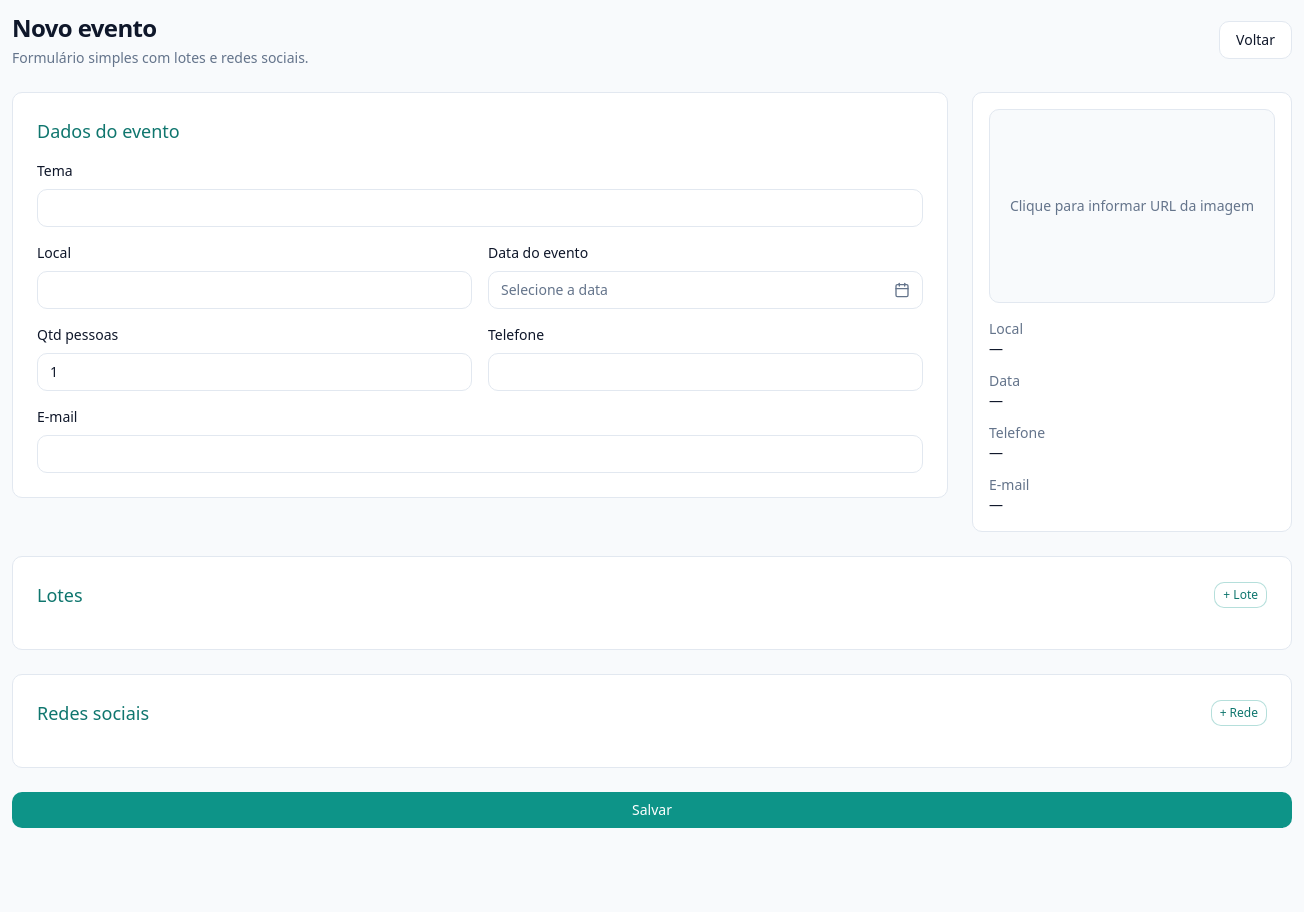
EventoDetailPage › espelha digitação no preview no create (two-way binding)
In the field labelled "Local": (254, 290) x1=37 y1=271 x2=472 y2=309, type "Arena Live"
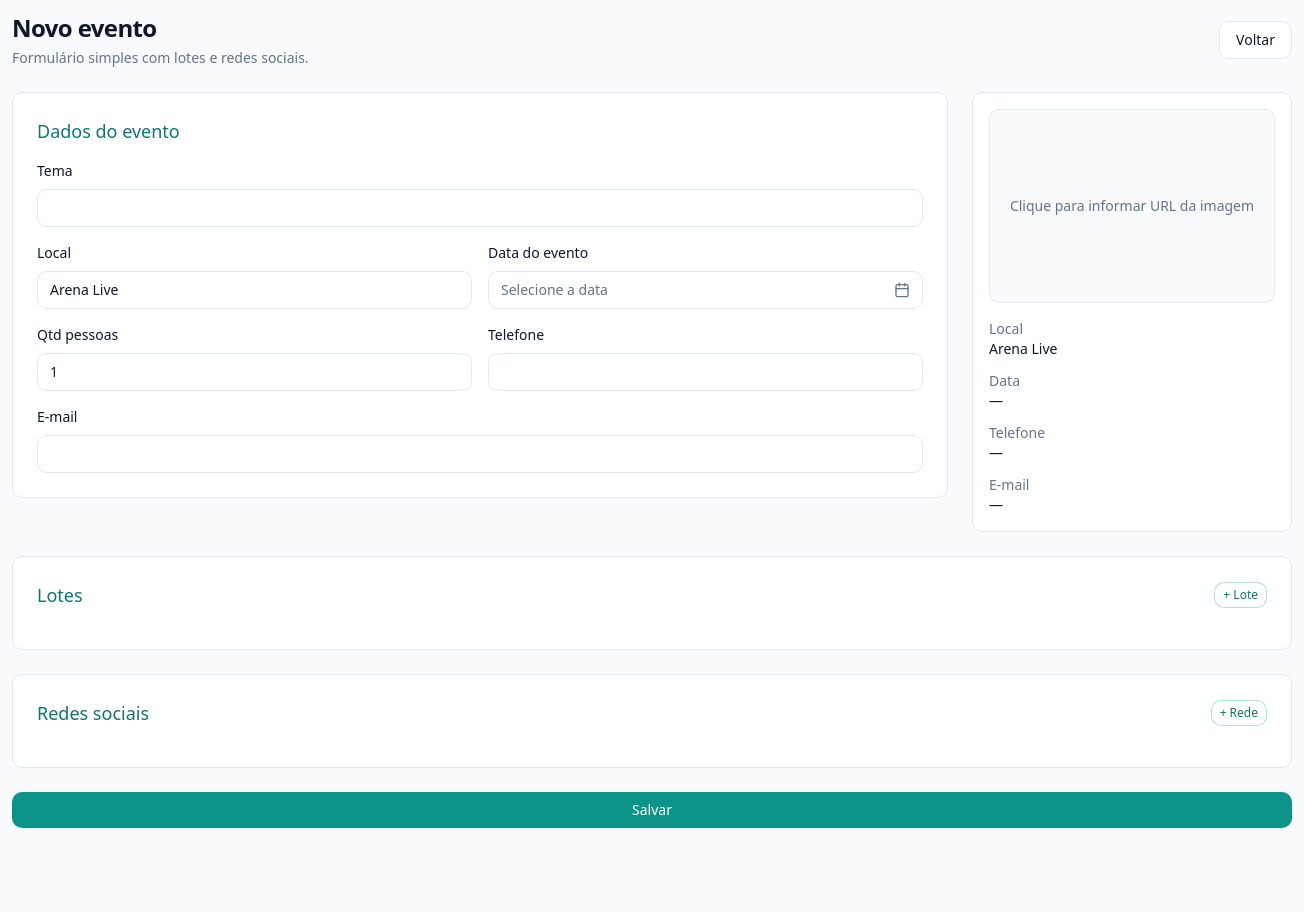
In the field labelled "Telefone": (706, 372) x1=488 y1=353 x2=923 y2=391, type "11911112222"
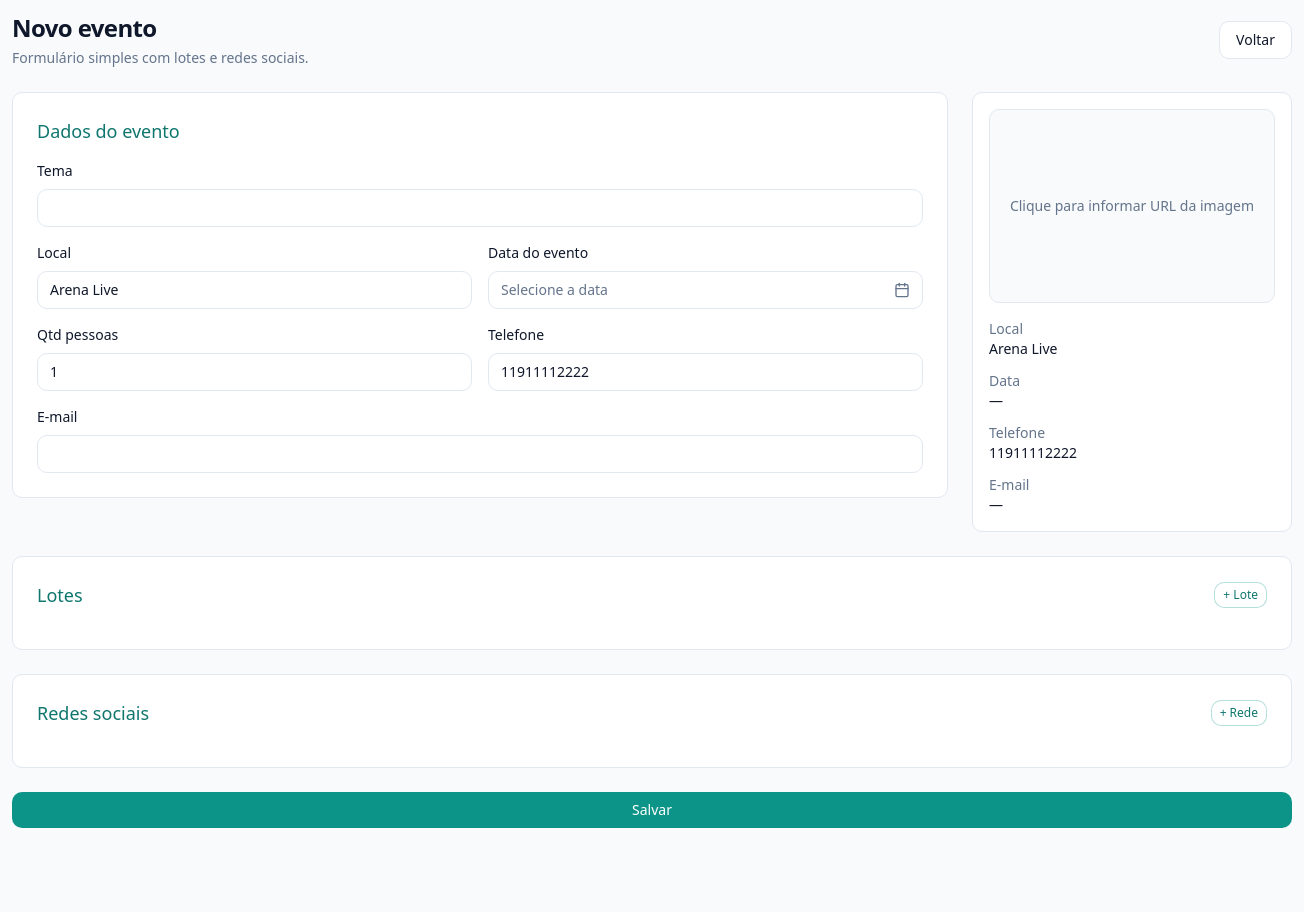
In the field labelled "E-mail": (480, 454) x1=37 y1=435 x2=923 y2=473, type "live@test.com"
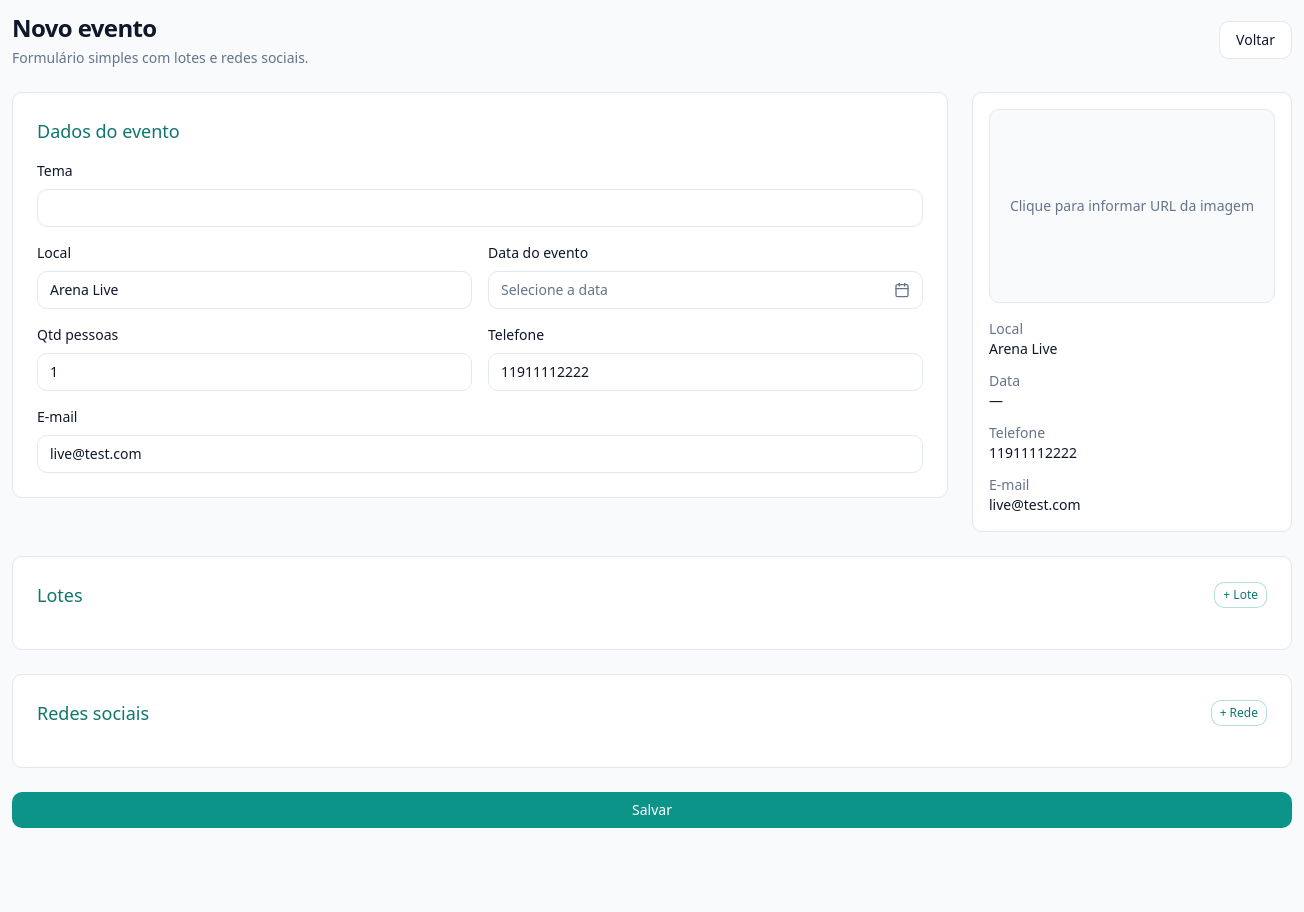
Expected: the element with test id "evento-preview-card" shows "Arena Live", x1=989 y1=339 x2=1058 y2=358
Expected: the element with test id "evento-preview-card" shows "11911112222", x1=989 y1=443 x2=1077 y2=462
Expected: the element with test id "evento-preview-card" shows "live@test.com", x1=989 y1=495 x2=1081 y2=514
